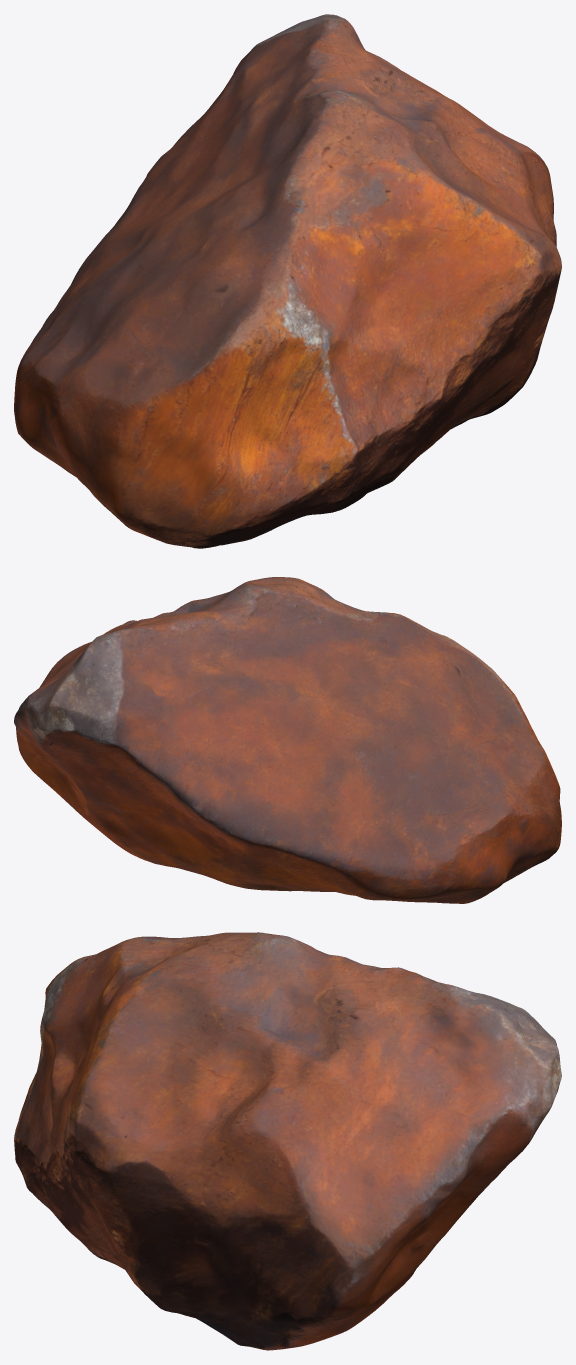
File: AI_IronOre.fbx
3 views of the same model, one above another, from view 1: azimuth 30°, elevation 25°; view 2: azimuth 150°, elevation 25°; view 3: azimuth 270°, elevation 25° (orthographic). The views are drawn at different scales.
Visible parts, largest first — view 1: Mesh1.0; view 2: Mesh1.0; view 3: Mesh1.0.
Boxes of the visible parts, x1=… form: Mesh1.0: x1=14, y1=14, x2=561, y2=548; Mesh1.0: x1=14, y1=577, x2=561, y2=903; Mesh1.0: x1=14, y1=932, x2=561, y2=1350.
Size of the model in its own units: 199 by 118 by 163.
Materials: 1 (1 with a texture image).
